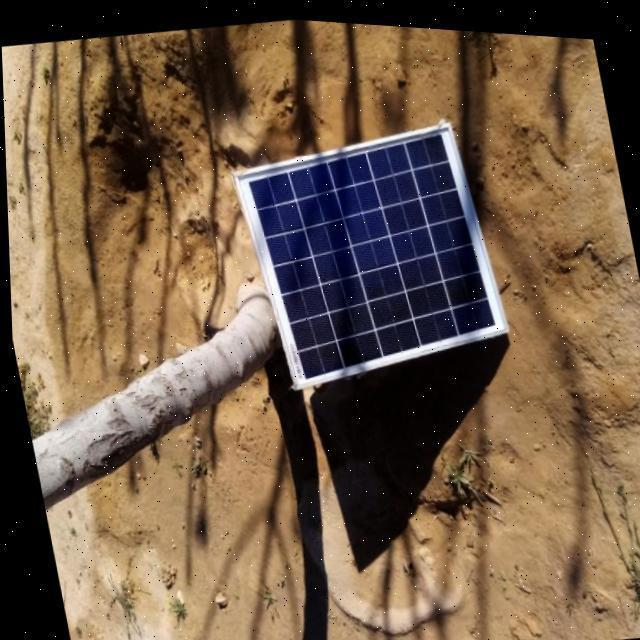Normal Solar Panel: (226, 100, 514, 400)
